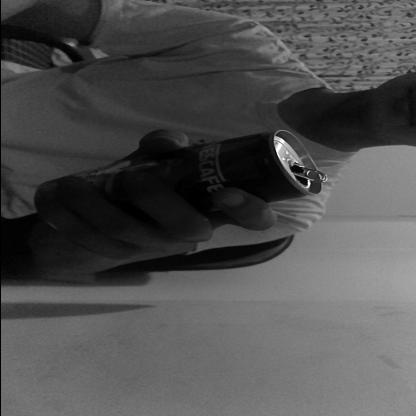alumunium_can: (29, 129, 327, 237)
